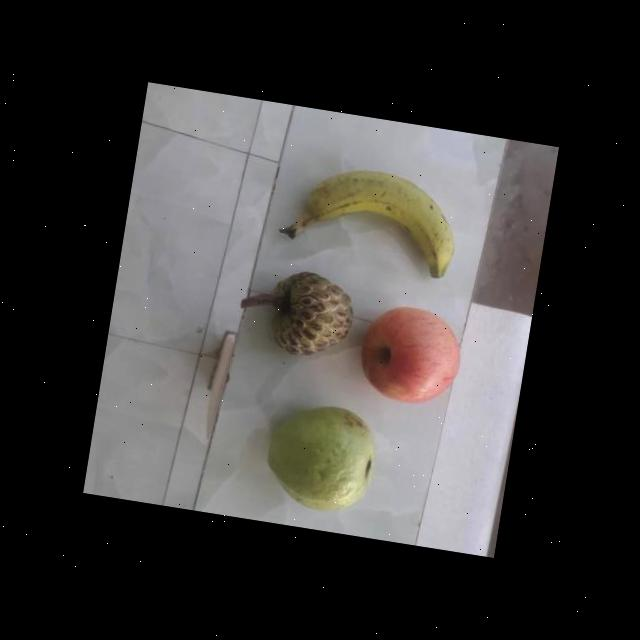Sakya fruit: (246, 265, 359, 366)
apple: (356, 298, 468, 416)
banana: (288, 161, 462, 282)
guava: (262, 400, 378, 520)
